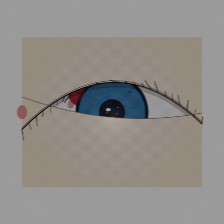hemorrhage_spot: (56, 60, 146, 132)
